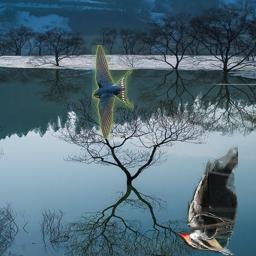Swallow: (92, 45, 134, 139)
Woodpecker: (177, 145, 238, 255)
